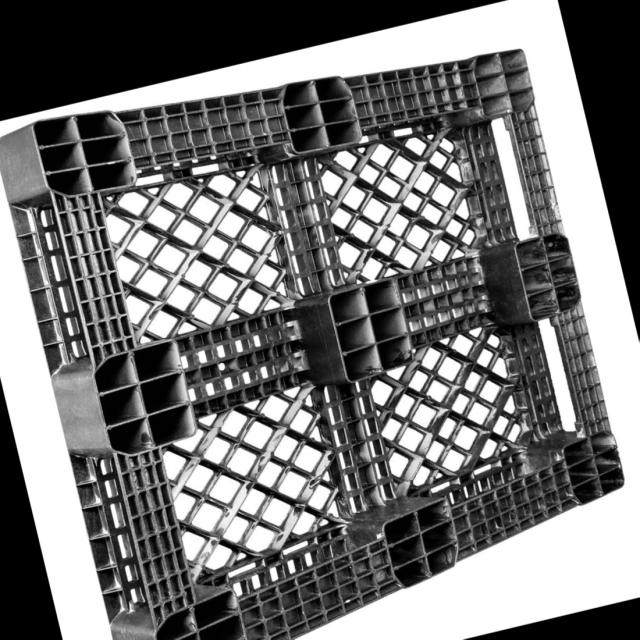non-igps: (0, 41, 629, 640)
